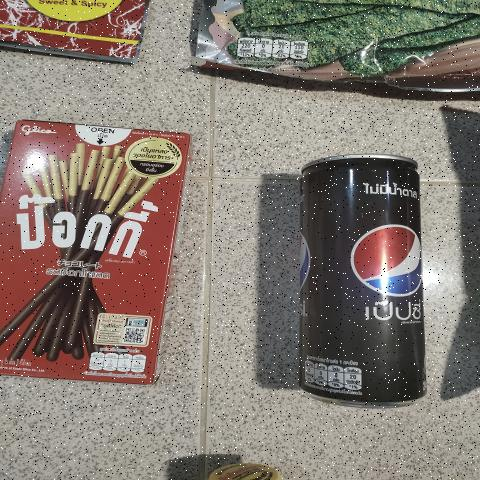pepsi_black: (302, 139, 433, 414)
pokki: (0, 131, 191, 384)
